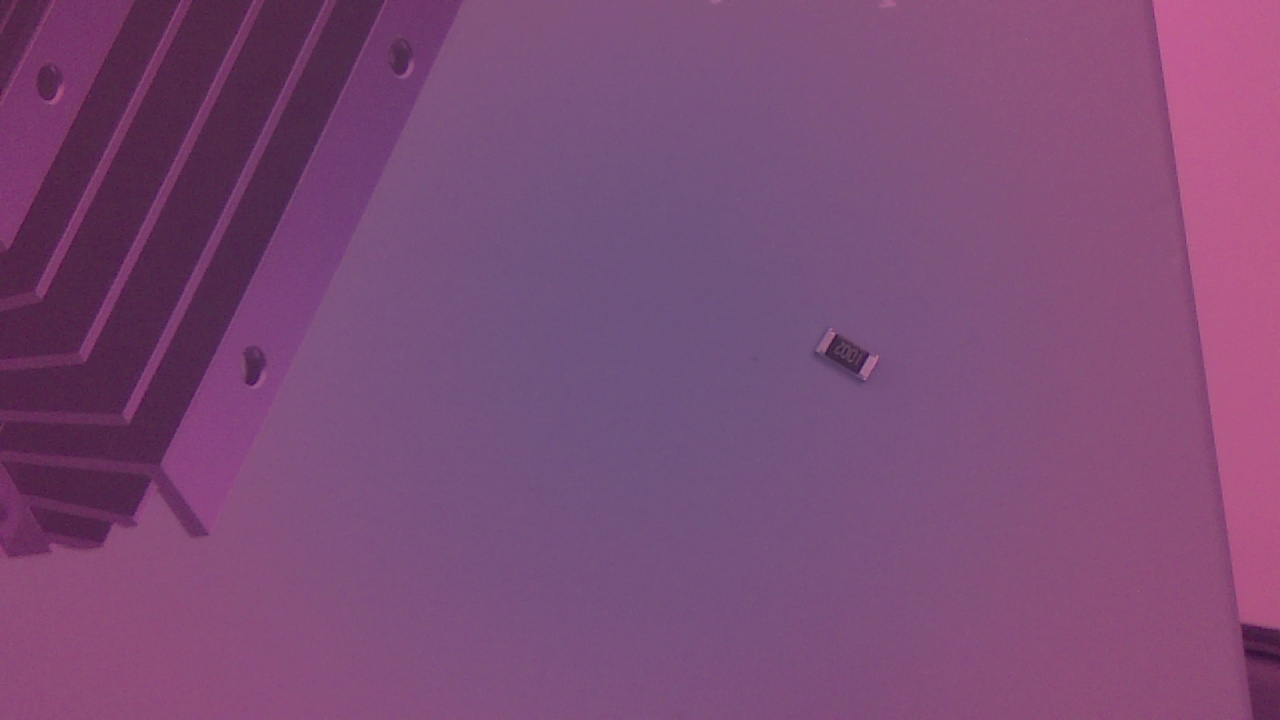Resistor: (811, 324, 891, 398)
